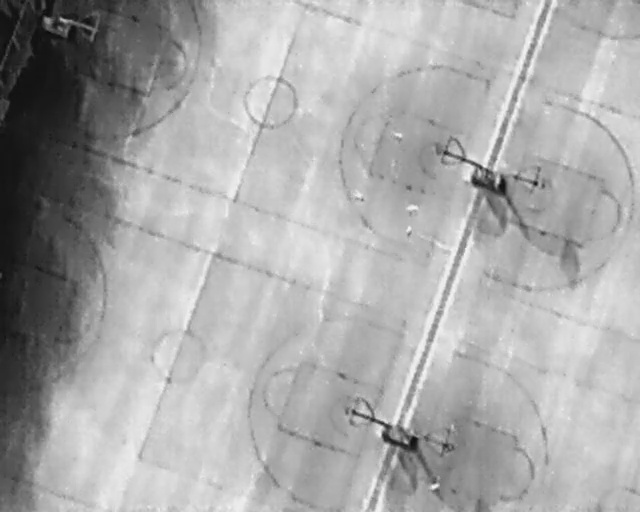Person: (352, 188, 365, 206), (431, 476, 442, 494), (405, 202, 418, 217), (392, 129, 403, 143), (406, 222, 413, 238)
